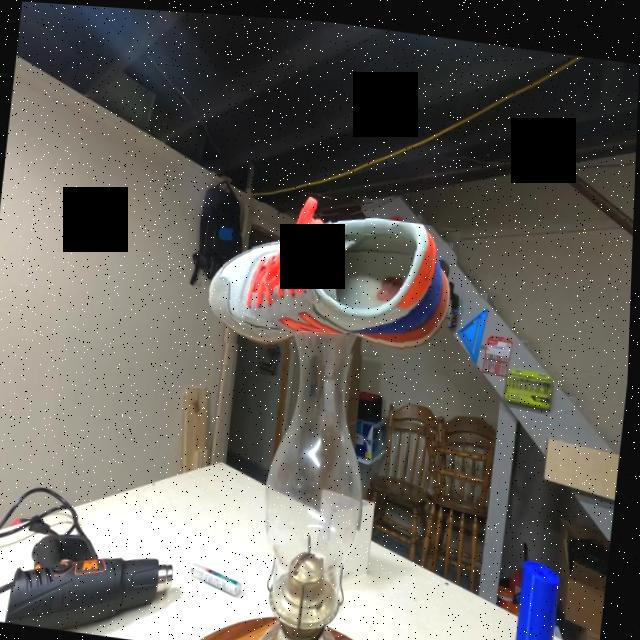shoe: (203, 192, 463, 368)
